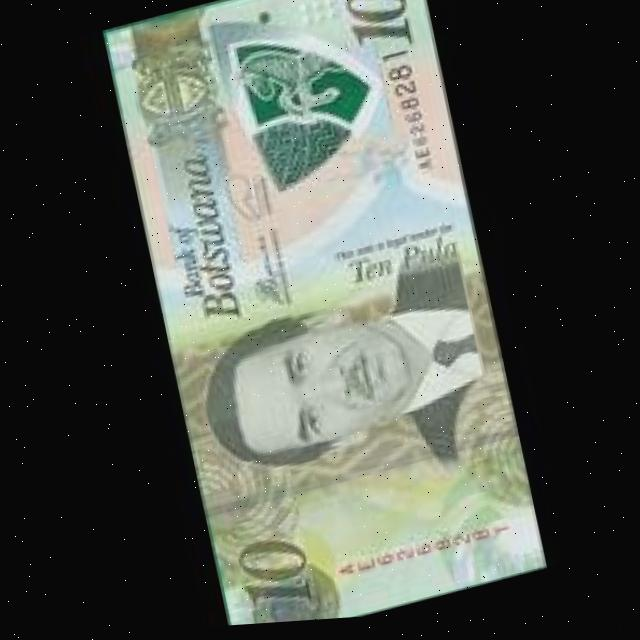banknote: (105, 0, 545, 634)
